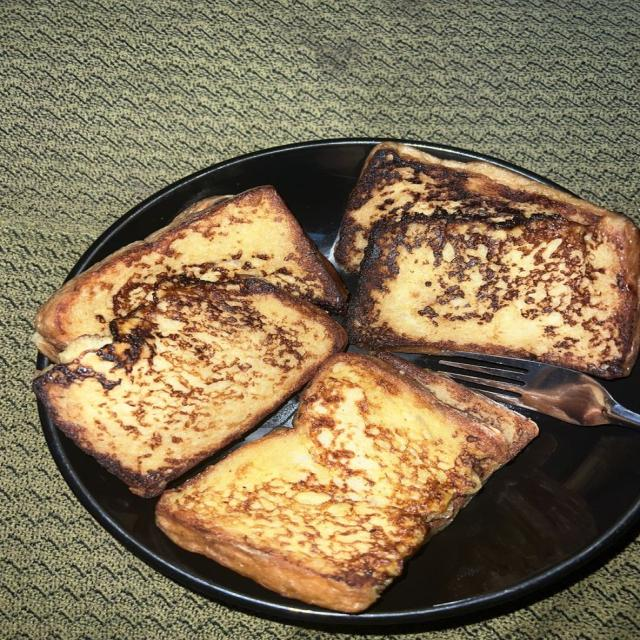toast bread: (157, 353, 537, 612), (35, 279, 345, 497), (36, 186, 346, 361), (348, 209, 639, 377), (338, 144, 585, 271)
